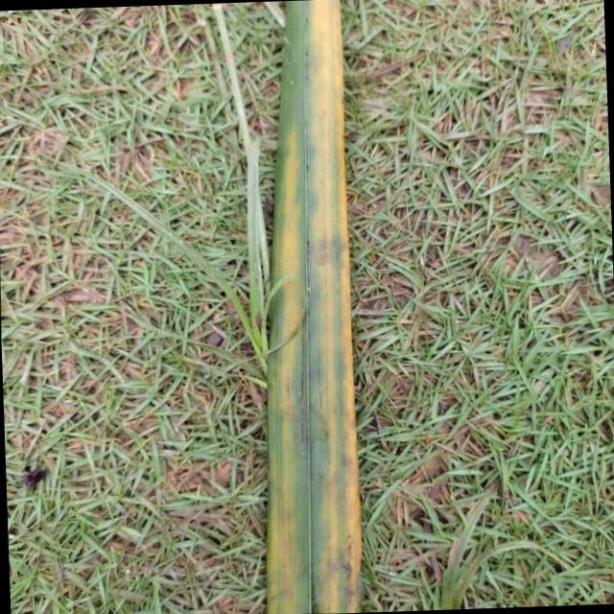Megnesium: (269, 0, 363, 614)
